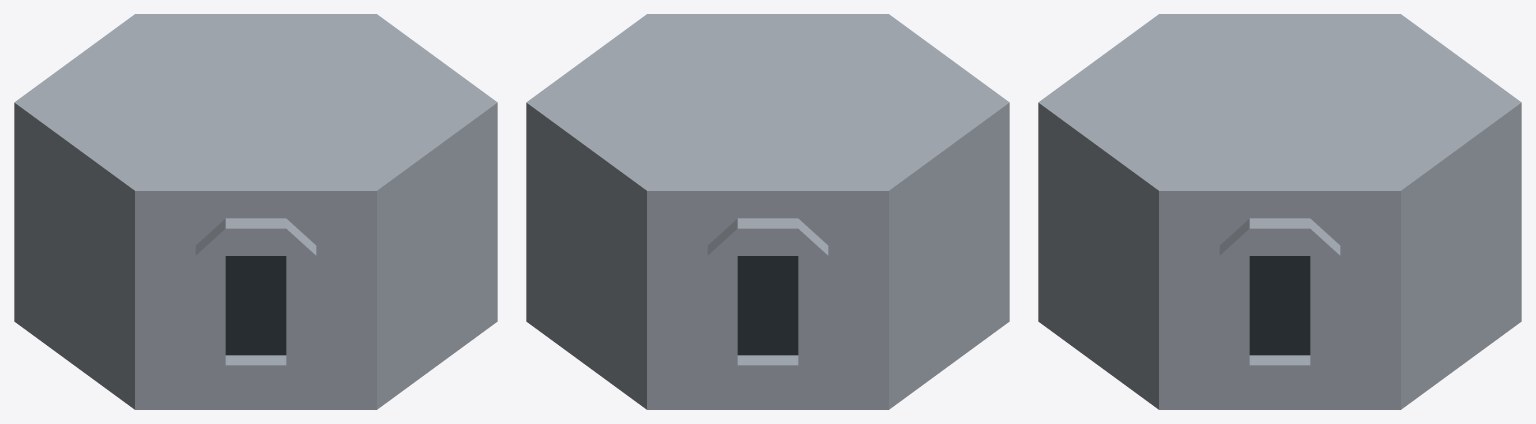
File: windows1.fbx
3 renders of one model, left to right at view 1: azimuth 30°, elevation 25°; view 2: azimuth 150°, elevation 25°; view 3: azimuth 270°, elevation 25°, orthographic.
Parts seen in each view (by area): view 1: Cylinder; view 2: Cylinder; view 3: Cylinder.
Boxes of the visible parts, x1=… form: Cylinder: x1=14, y1=14, x2=497, y2=409; Cylinder: x1=526, y1=14, x2=1009, y2=409; Cylinder: x1=1038, y1=14, x2=1521, y2=409.
Bounding box in the file's own units: 1.83 × 1 × 2.
